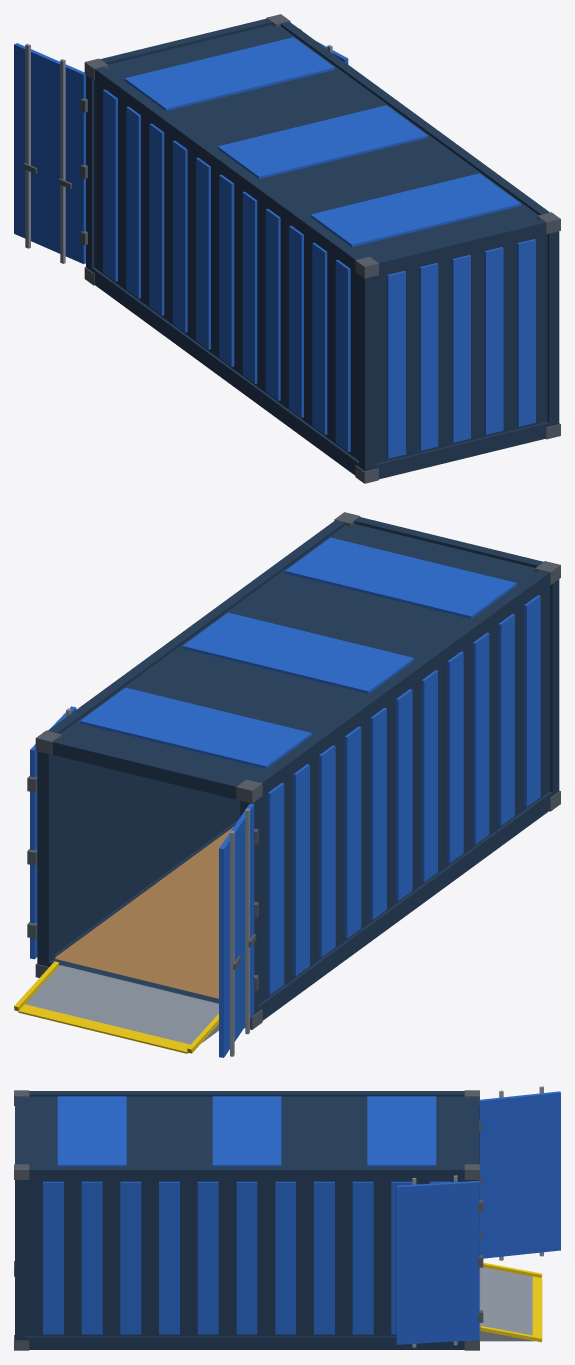
Rendered from container_open.glb.
3 renders of one model, top to bottom at view 1: azimuth 30°, elevation 25°; view 2: azimuth 150°, elevation 25°; view 3: azimuth 270°, elevation 25°, orthographic. The views are drawn at different scales.
Parts seen in each view (by area): view 1: Container; view 2: Container; view 3: Container.
Part boxes in pixels (x1,y1,x2,y2): Container: (14, 14, 560, 483); Container: (14, 512, 560, 1057); Container: (14, 1086, 560, 1350).
Bounding box in the file's own units: 2.97 × 2.6 × 7.14.
